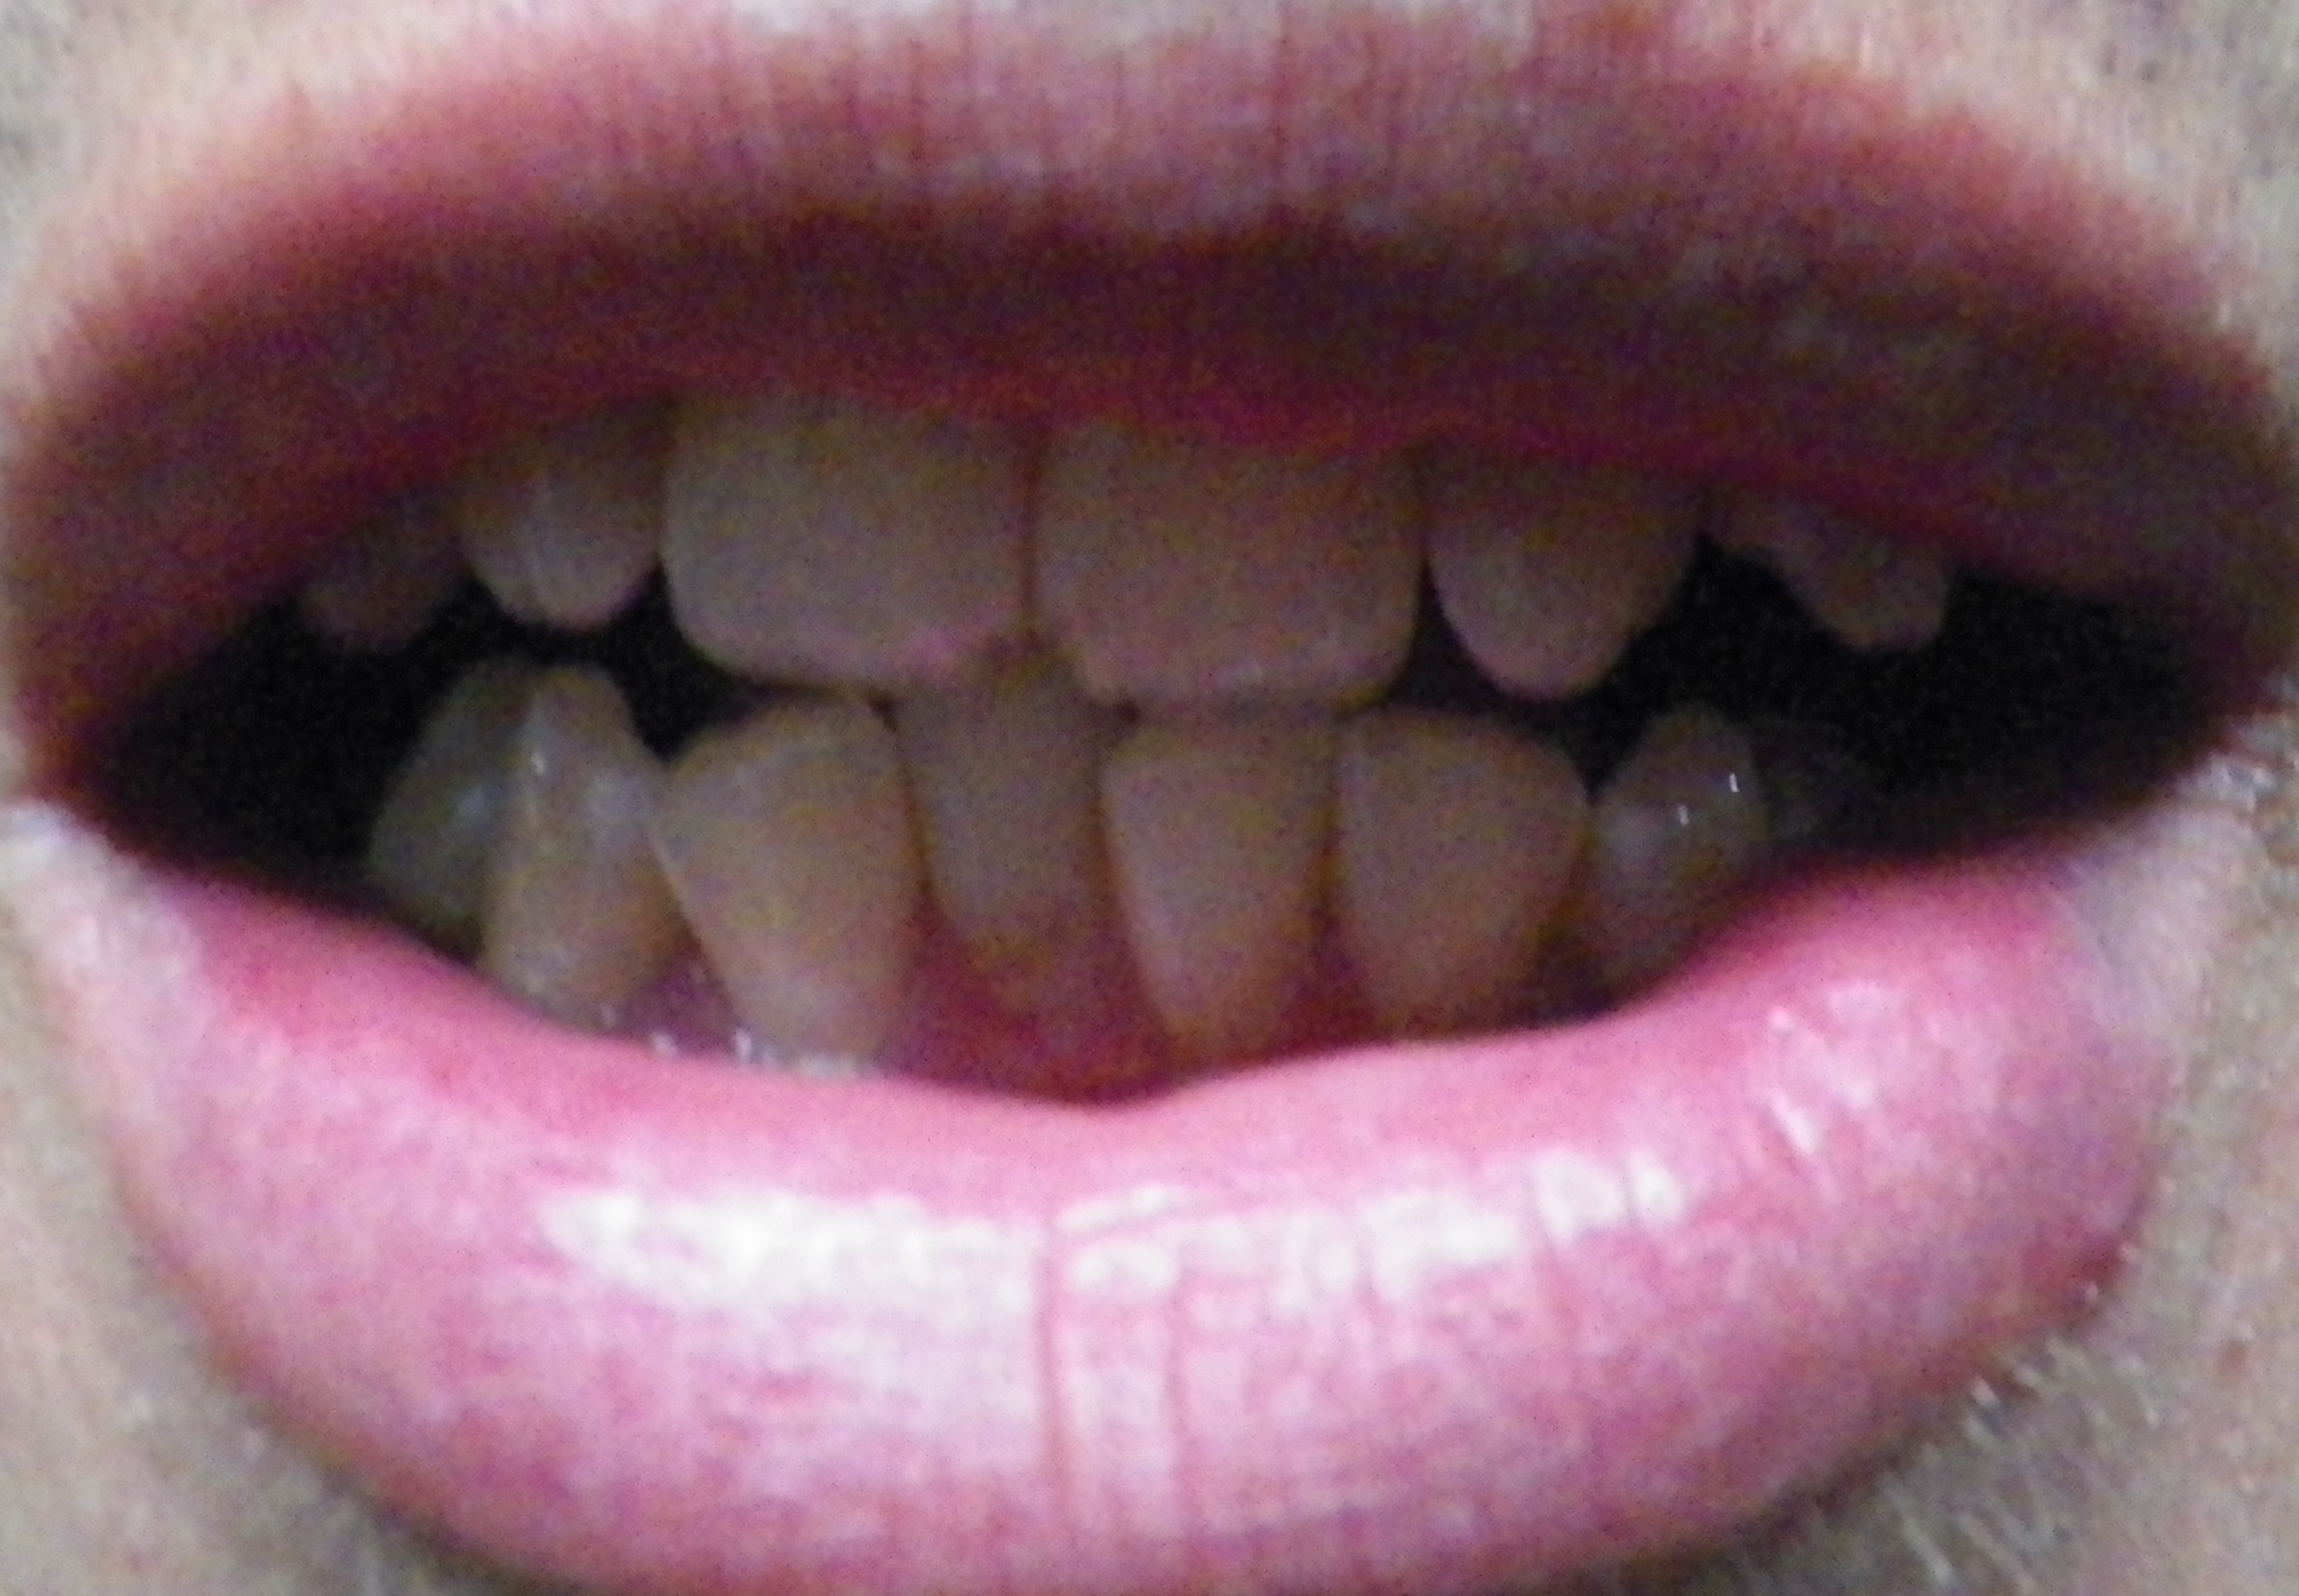boca: (337, 400, 1906, 1042)
